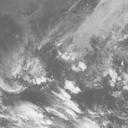cyclone: (26, 40, 103, 103)
